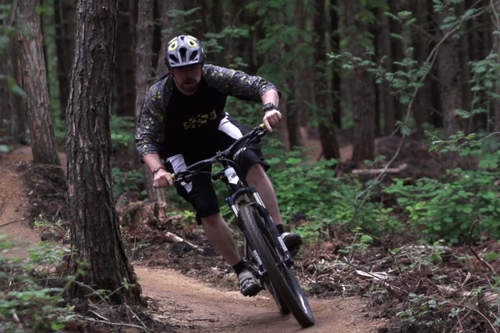bikerider: (135, 28, 327, 333)
